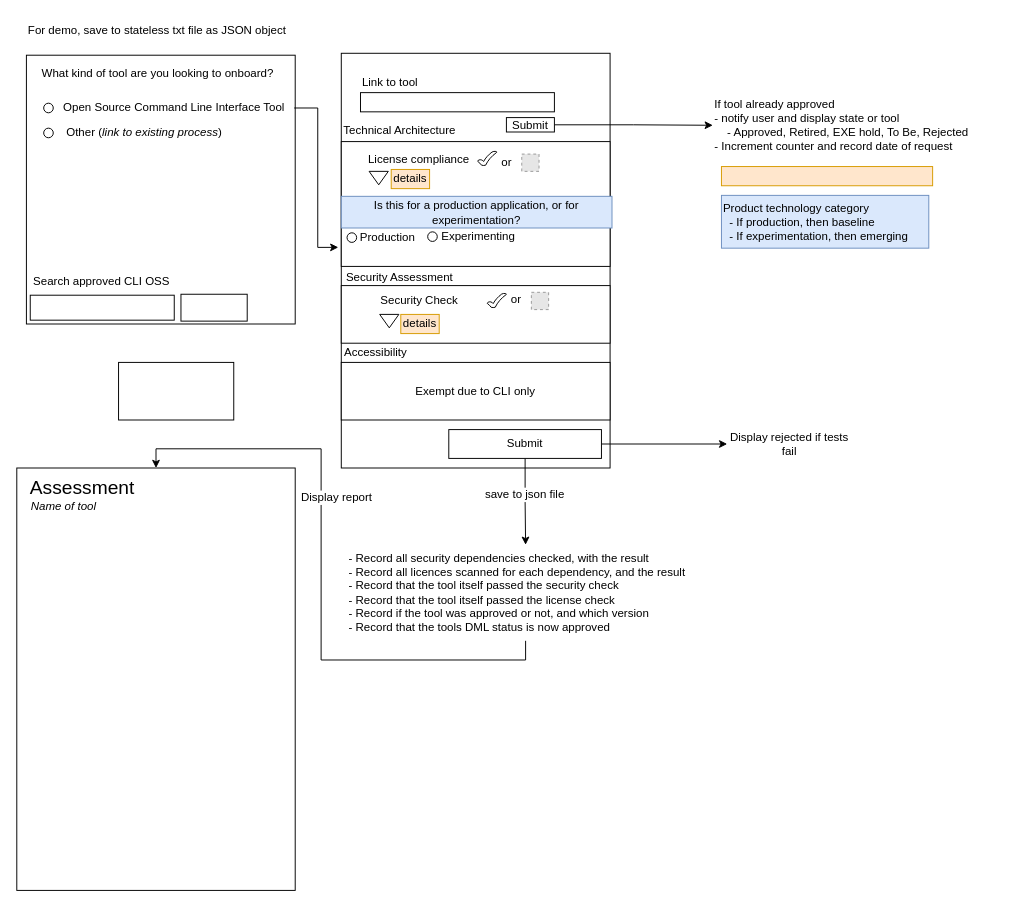
Some shapes in this 1023 by 907 pixel diagram are drawn without their labels. Grey dashed boxes stand in for pictures. Each missing label, with the centre of its shape:
Details = summary of ourput from npm: point 826,176
Existing process: point 176,390
Search: point 213,307
